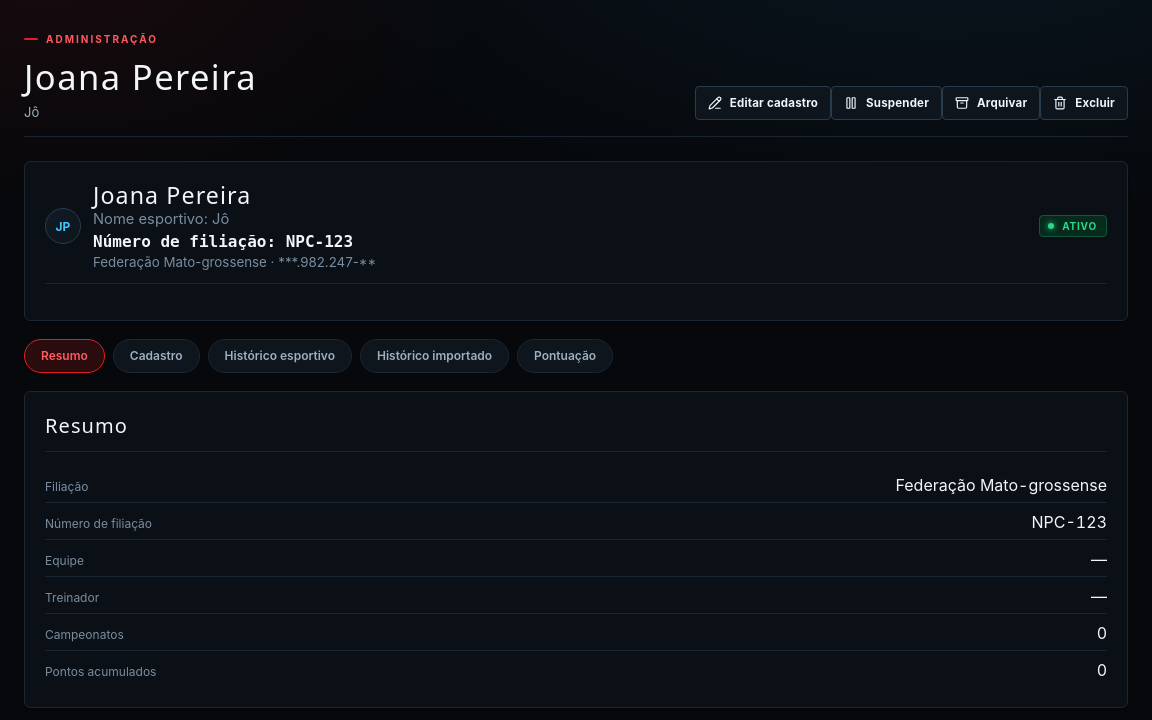
Test: o CPF nunca é desmascarado pela tela › mostra o mascarado que veio do servidor, e nada além disso
What coordinates should you click on to do the following:
click the button "Cadastro"
I would click on:
 (156, 356)
Its box is [113, 339, 200, 373].
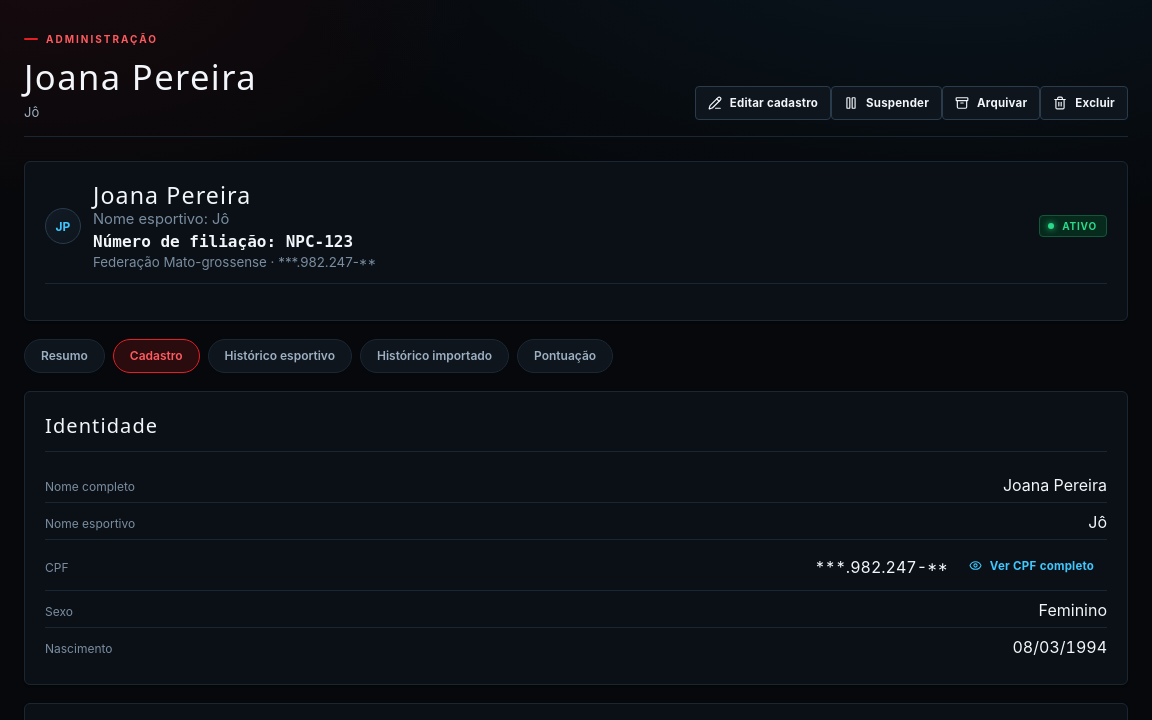
Expected: the text "***.982.247-**" is shown, [815, 556, 948, 576]
